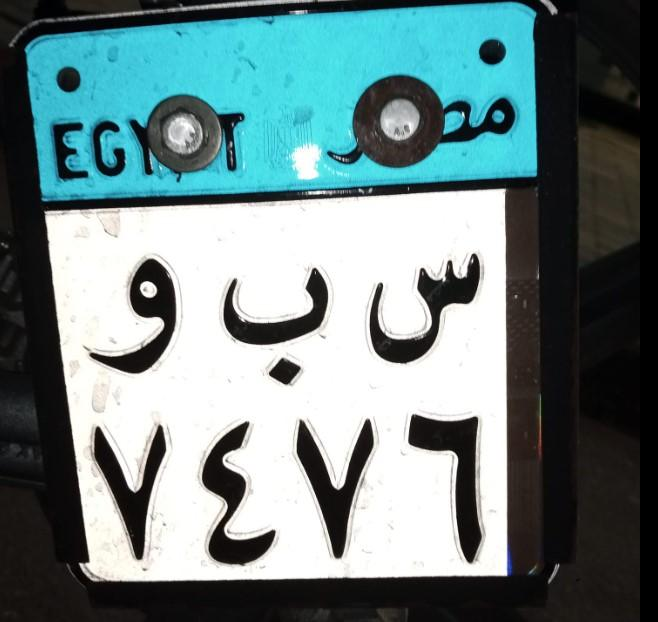License Plate: (20, 26, 552, 588)
